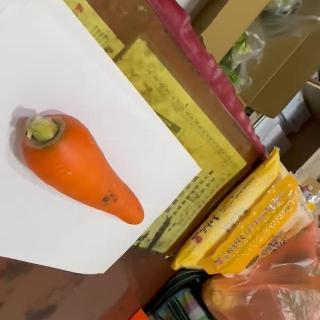carrot: (21, 112, 145, 226)
